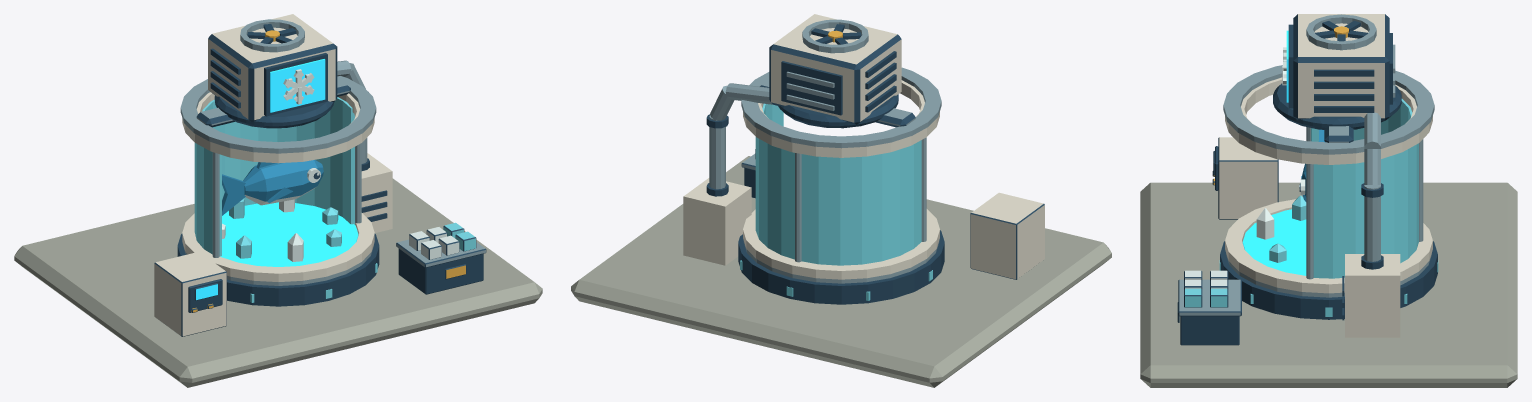
Rendered from freezer-lv1.glb.
3 views of the same model, side by side, from view 1: azimuth 30°, elevation 25°; view 2: azimuth 150°, elevation 25°; view 3: azimuth 270°, elevation 25° (orthographic). The views are drawn at different scales.
Visible parts, largest first — view 1: Freezer_L1, Bluefin_Mascot, Forked_Tail, Cold_Air_Impeller; view 2: Freezer_L1, Cold_Air_Impeller; view 3: Freezer_L1, Cold_Air_Impeller.
Part boxes in pixels (box(x1,y1,x2,y2)): Freezer_L1: box(14, 14, 542, 387); Bluefin_Mascot: box(243, 160, 323, 205); Forked_Tail: box(222, 174, 245, 215); Cold_Air_Impeller: box(247, 24, 296, 43); Freezer_L1: box(571, 14, 1111, 387); Cold_Air_Impeller: box(811, 24, 861, 44); Freezer_L1: box(1140, 14, 1517, 387); Cold_Air_Impeller: box(1315, 20, 1367, 41).
Size of the model in its own units: 5.4 by 3.52 by 4.5.
